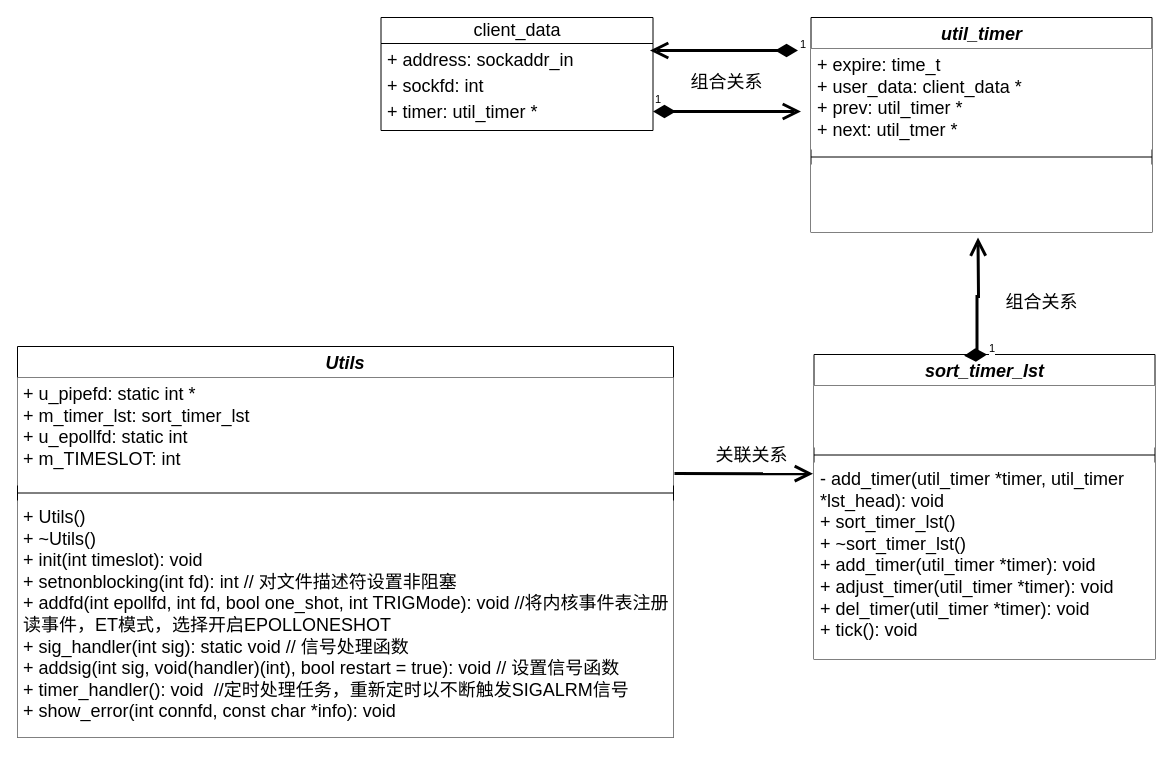
Image size: 1173x758. Some labels were removed from this diagram. The centre of each missing label's shape, as x and y in pixels:
"+ head: util_timer * + tail: util_tmer *" belongs at (984,416).
"+ util_timer() + (* cb_func)(client_data *): void" belongs at (981,198).
